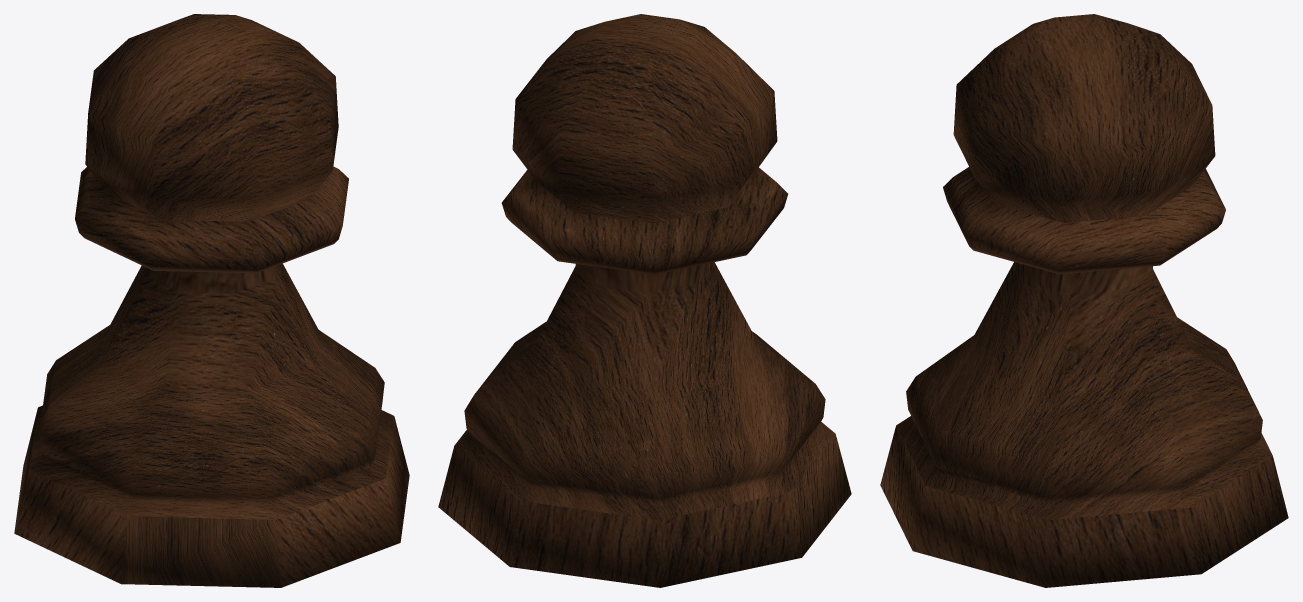
Rendered from gercek4_p_b.glb.
3 renders of one model, left to right at view 1: azimuth 30°, elevation 25°; view 2: azimuth 150°, elevation 25°; view 3: azimuth 270°, elevation 25°, orthographic.
Parts seen in each view (by area): view 1: BlackPawn.004_29; view 2: BlackPawn.004_29; view 3: BlackPawn.004_29.
Boxes of the visible parts, box(x1,y1,x2,y2) form: BlackPawn.004_29: box(14, 14, 409, 587); BlackPawn.004_29: box(438, 14, 851, 587); BlackPawn.004_29: box(880, 14, 1288, 587).
Bounding box in the file's own units: 0.0275 × 0.0349 × 0.0275.
Materials: 1 (1 with a texture image).
